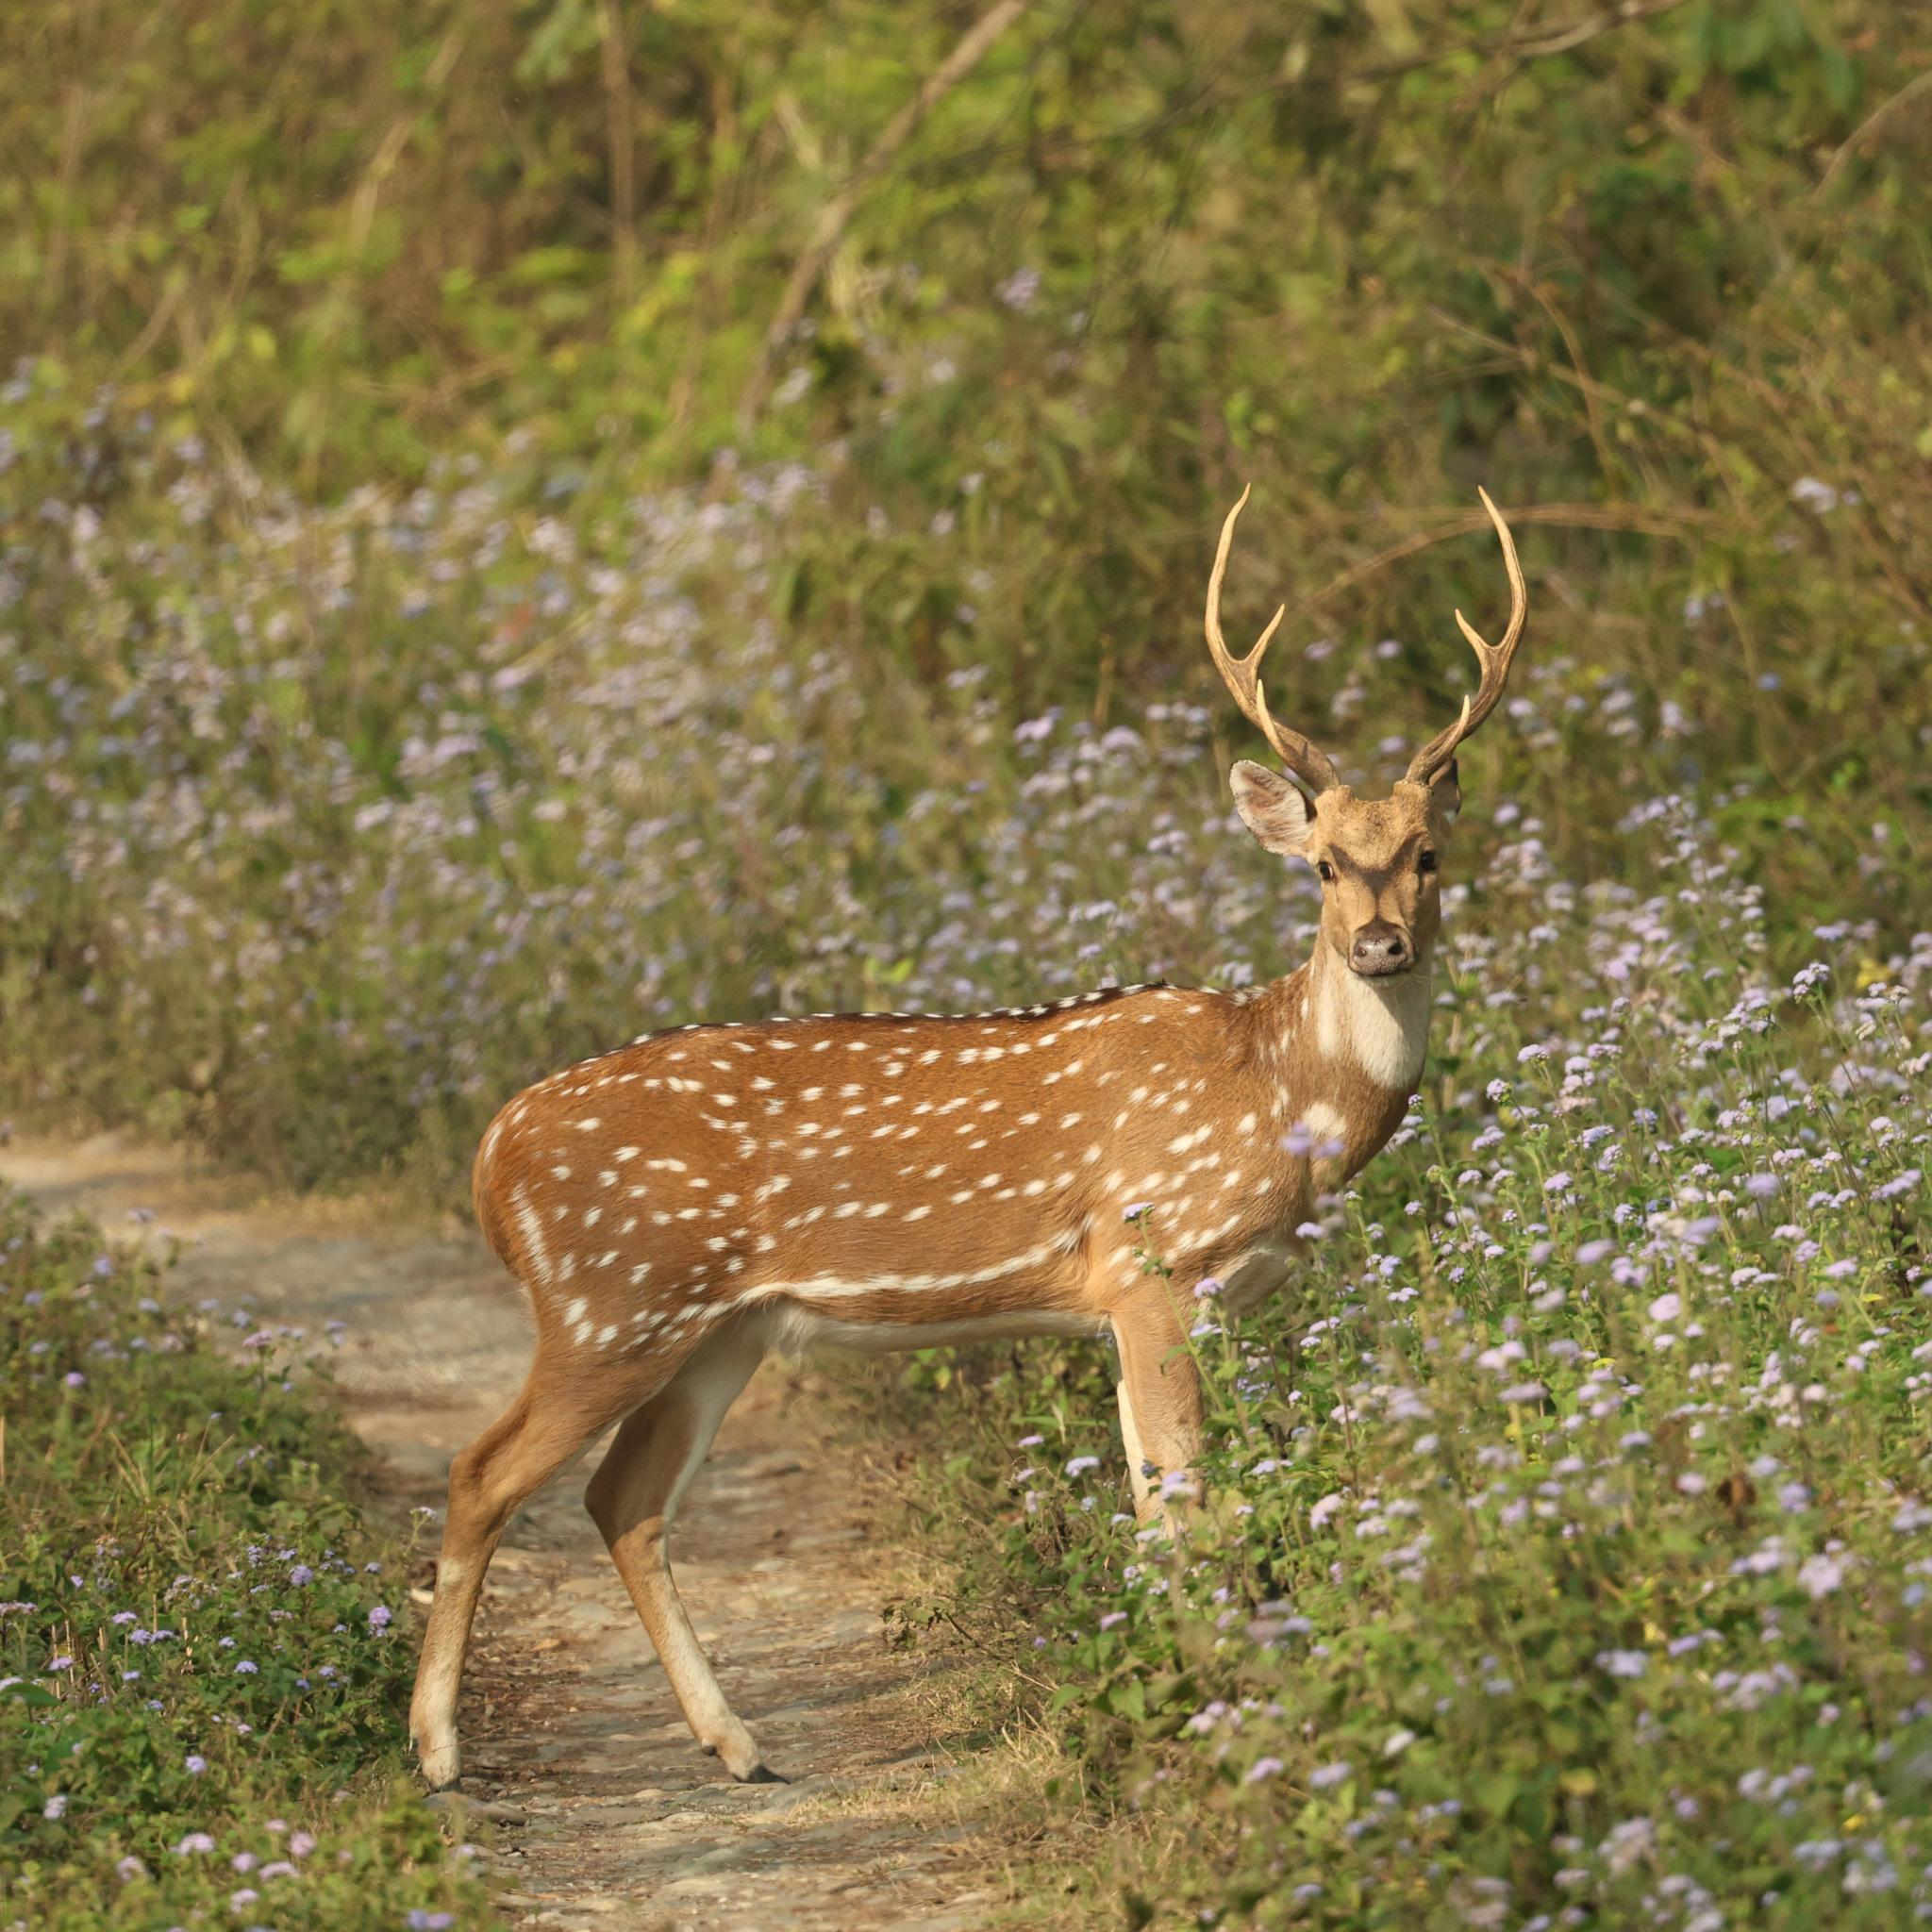Deer: (410, 492, 1525, 1785)
